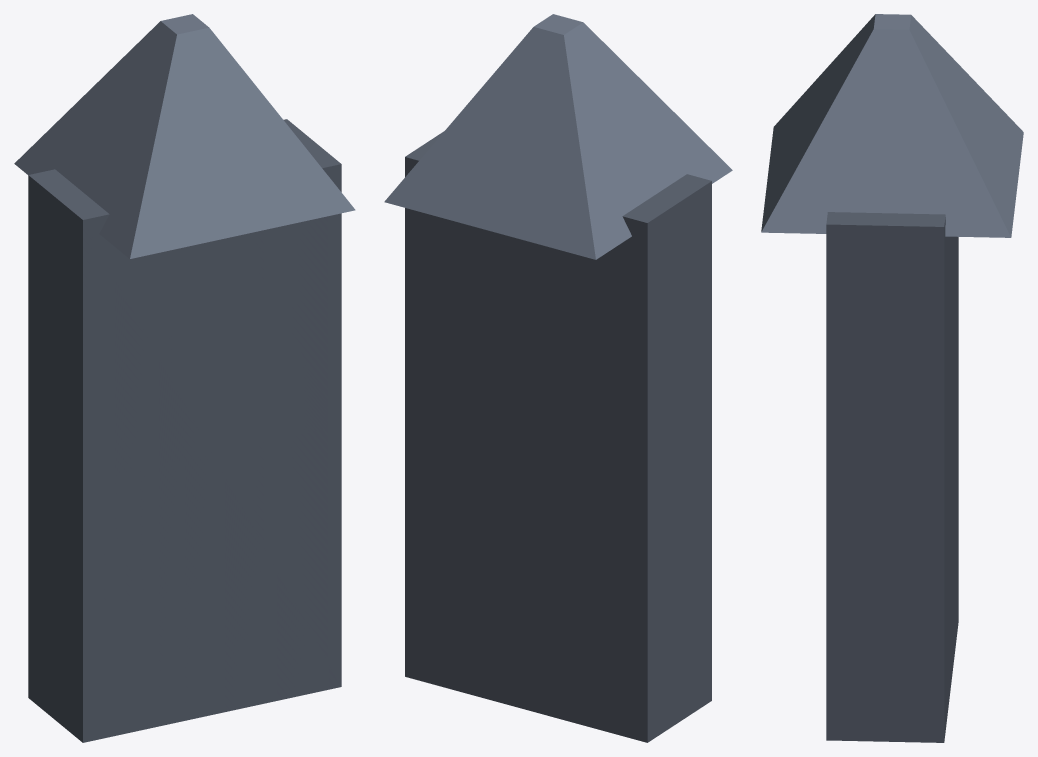
The model's file is EXT_GraveMarker_06.glb.
3 renders of one model, left to right at view 1: azimuth 30°, elevation 25°; view 2: azimuth 150°, elevation 25°; view 3: azimuth 270°, elevation 25°, orthographic.
Visible parts, largest first — view 1: EXT_GraveMarker_06; view 2: EXT_GraveMarker_06; view 3: EXT_GraveMarker_06.
Part boxes in pixels (box(x1,y1,x2,y2)): EXT_GraveMarker_06: box(14, 14, 355, 742); EXT_GraveMarker_06: box(384, 14, 732, 742); EXT_GraveMarker_06: box(761, 14, 1023, 742).
Size of the model in its own units: 0.6238 by 1.55 by 0.5606.
